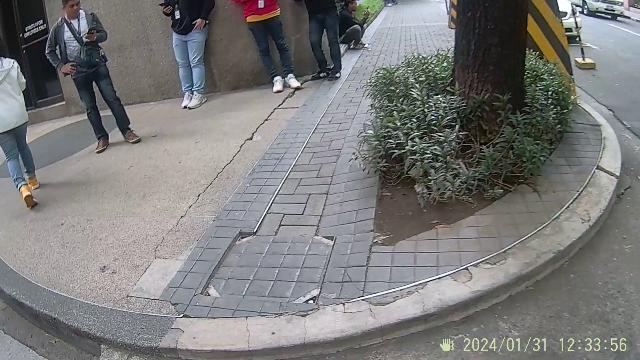tree: (443, 0, 535, 156)
